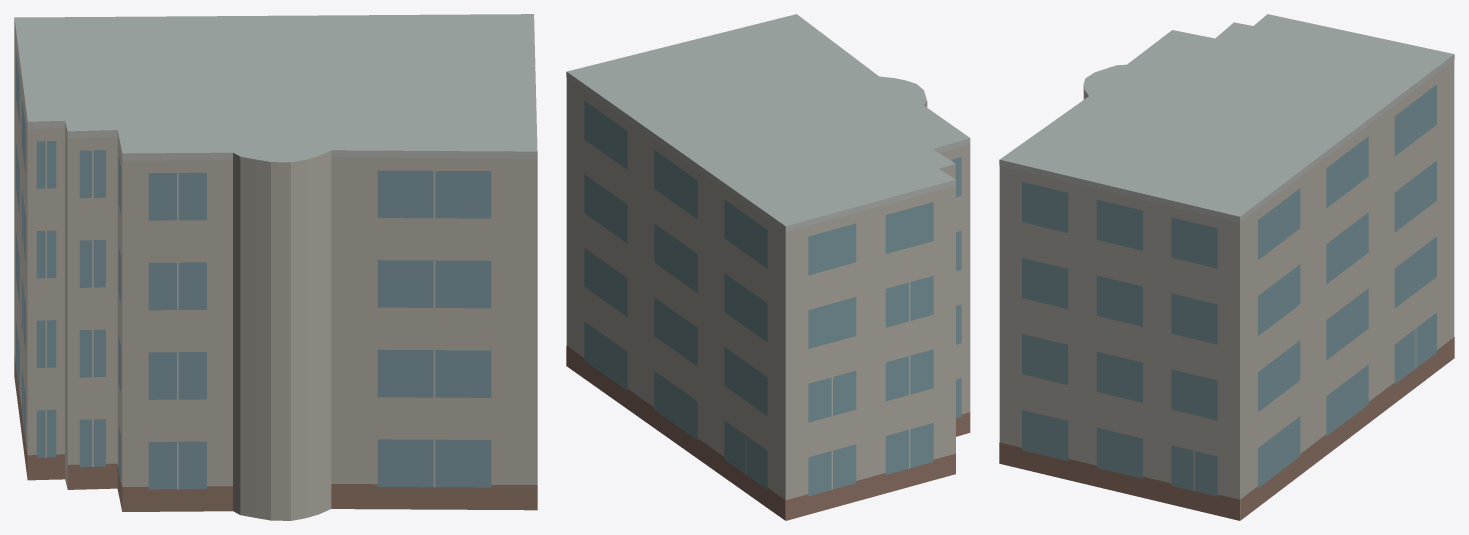
File: survey-upis-32854402.glb
3 views of the same model, side by side, from view 1: azimuth 30°, elevation 25°; view 2: azimuth 150°, elevation 25°; view 3: azimuth 270°, elevation 25° (orthographic). The views are drawn at different scales.
Parts seen in each view (by area): view 1: survey-upis-32854402.tmp; view 2: survey-upis-32854402.tmp; view 3: survey-upis-32854402.tmp.
Part boxes in pixels (x1=…): survey-upis-32854402.tmp: x1=14, y1=14, x2=537, y2=520; survey-upis-32854402.tmp: x1=566, y1=14, x2=970, y2=520; survey-upis-32854402.tmp: x1=999, y1=14, x2=1454, y2=520.
Bounding box in the file's own units: 17.75 × 12.4 × 16.82.
